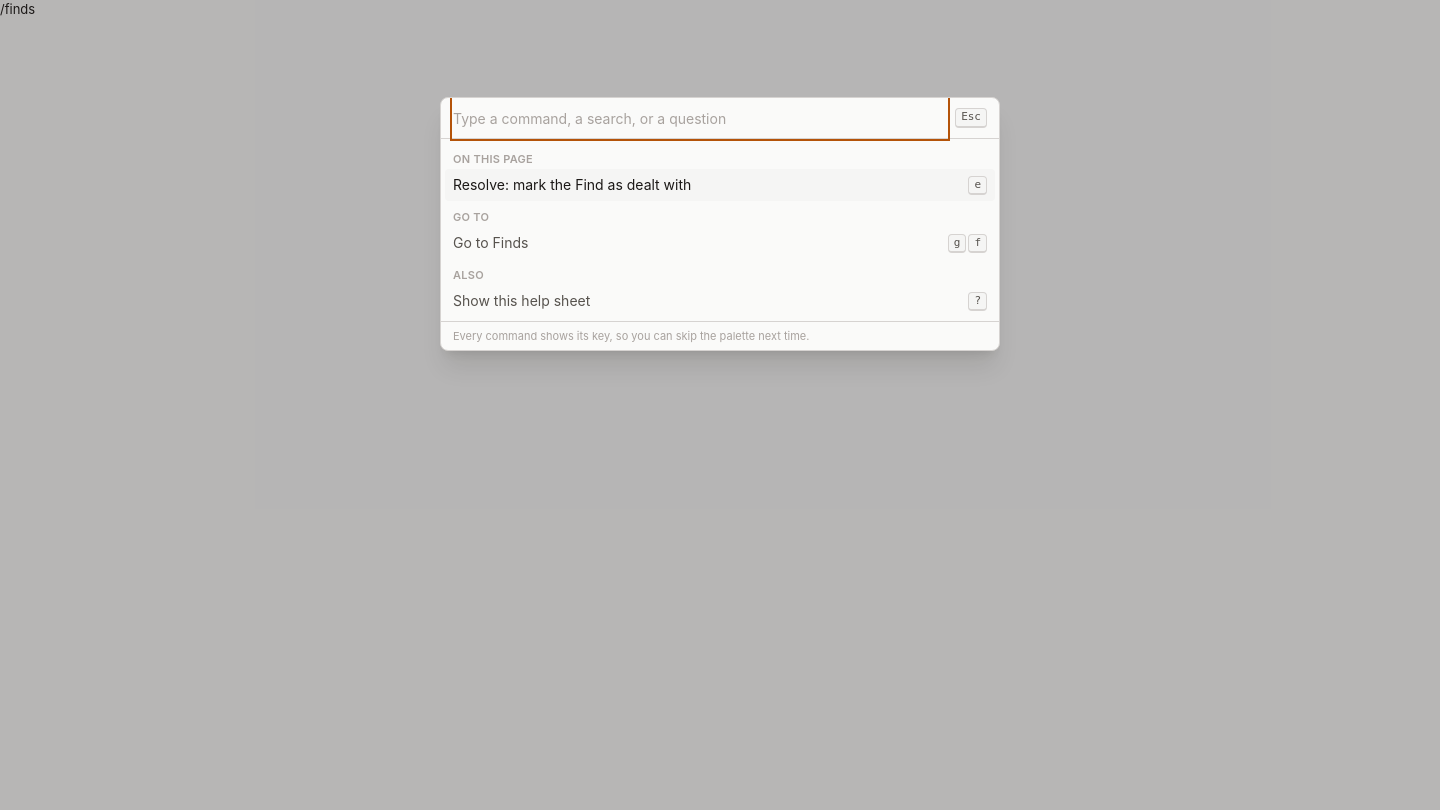
it: the command palette › the ask row prefills the Director and goes there without sending
In the dropdown labelled "command": {"x": 700, "y": 118} x1=453 y1=98 x2=947 y2=138, type "what is due"
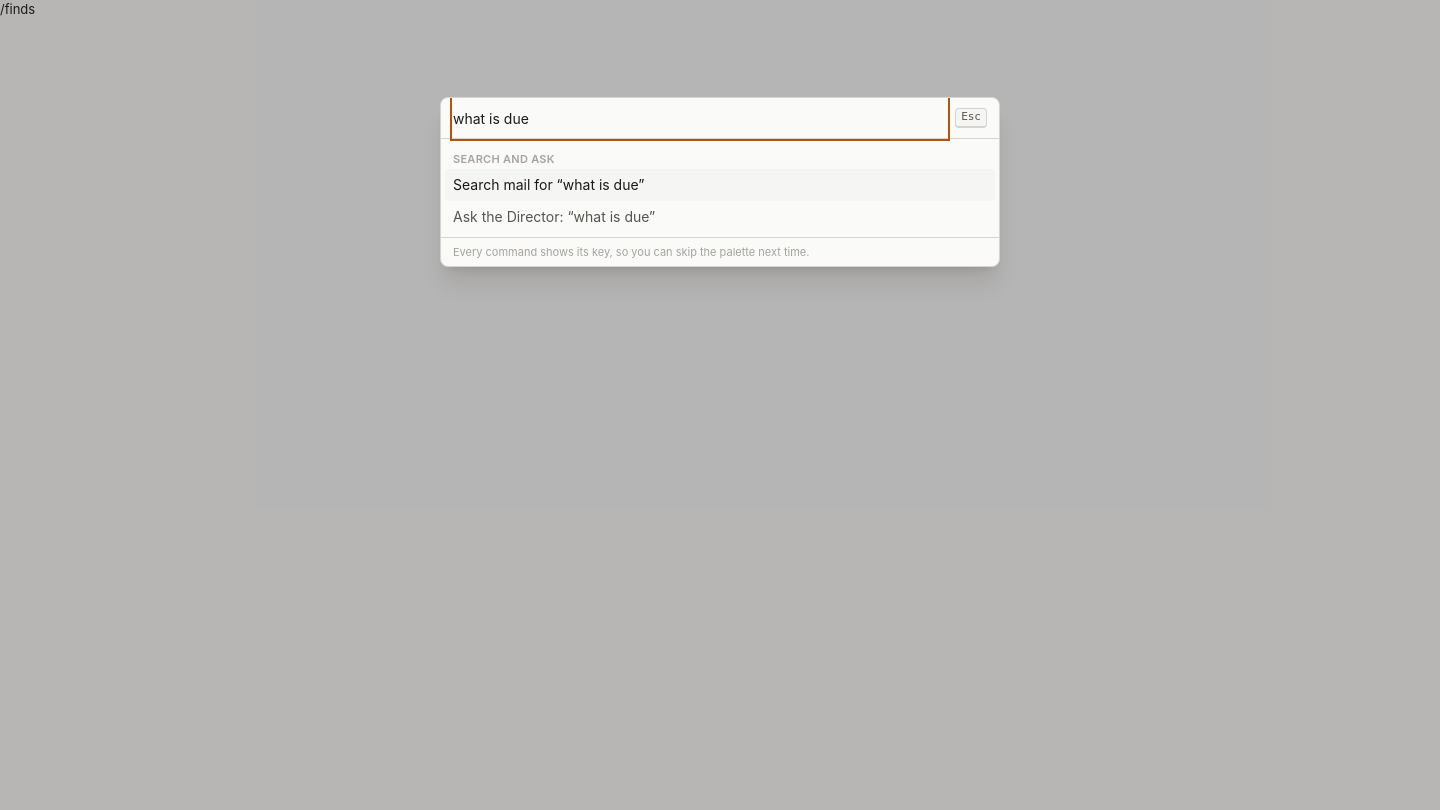
Press ArrowDown in the dropdown named "command", box x1=453 y1=98 x2=947 y2=138
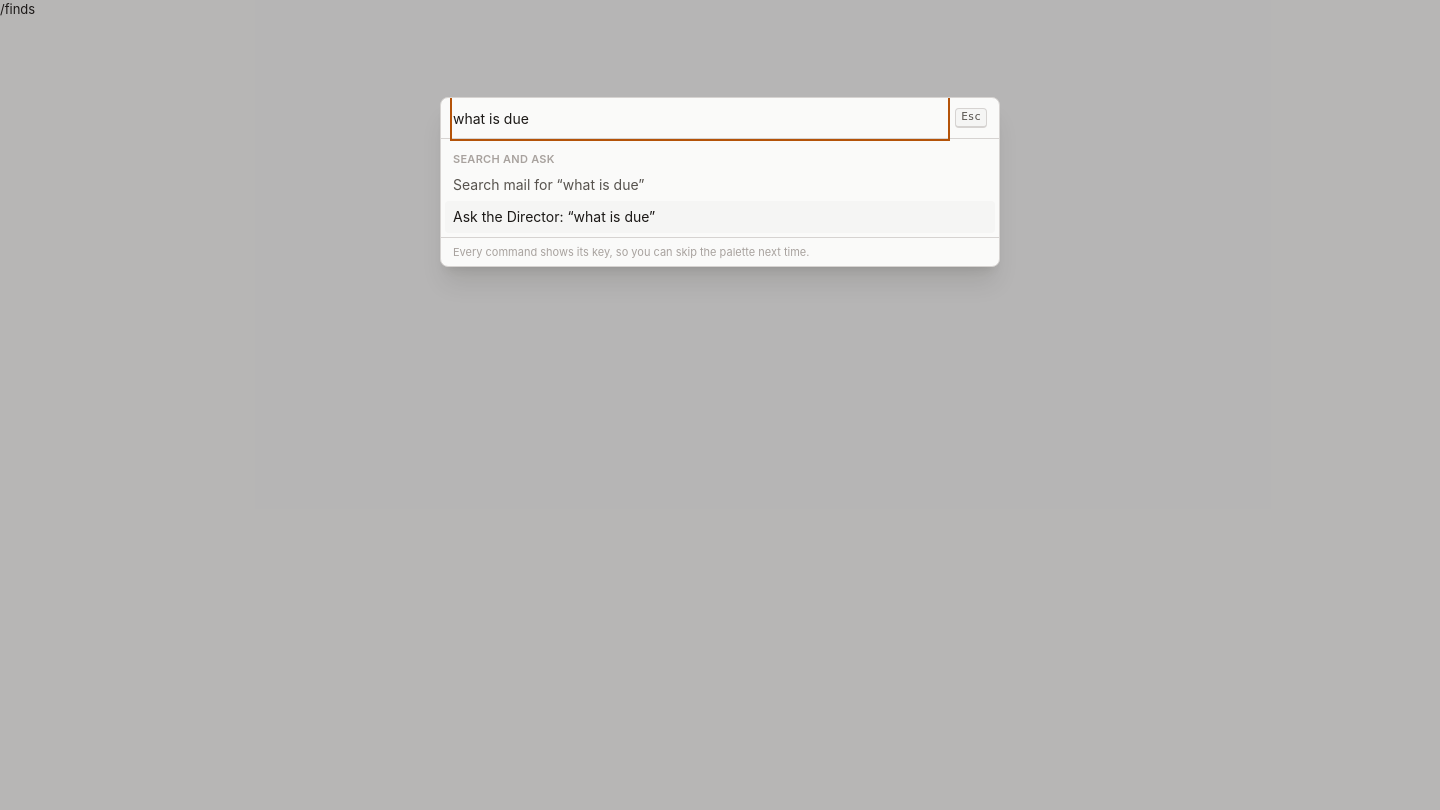
Check: the option "Ask the Director: “what is due”" is selected, box x1=445 y1=201 x2=995 y2=233
Press Enter in the dropdown named "command", box x1=453 y1=98 x2=947 y2=138
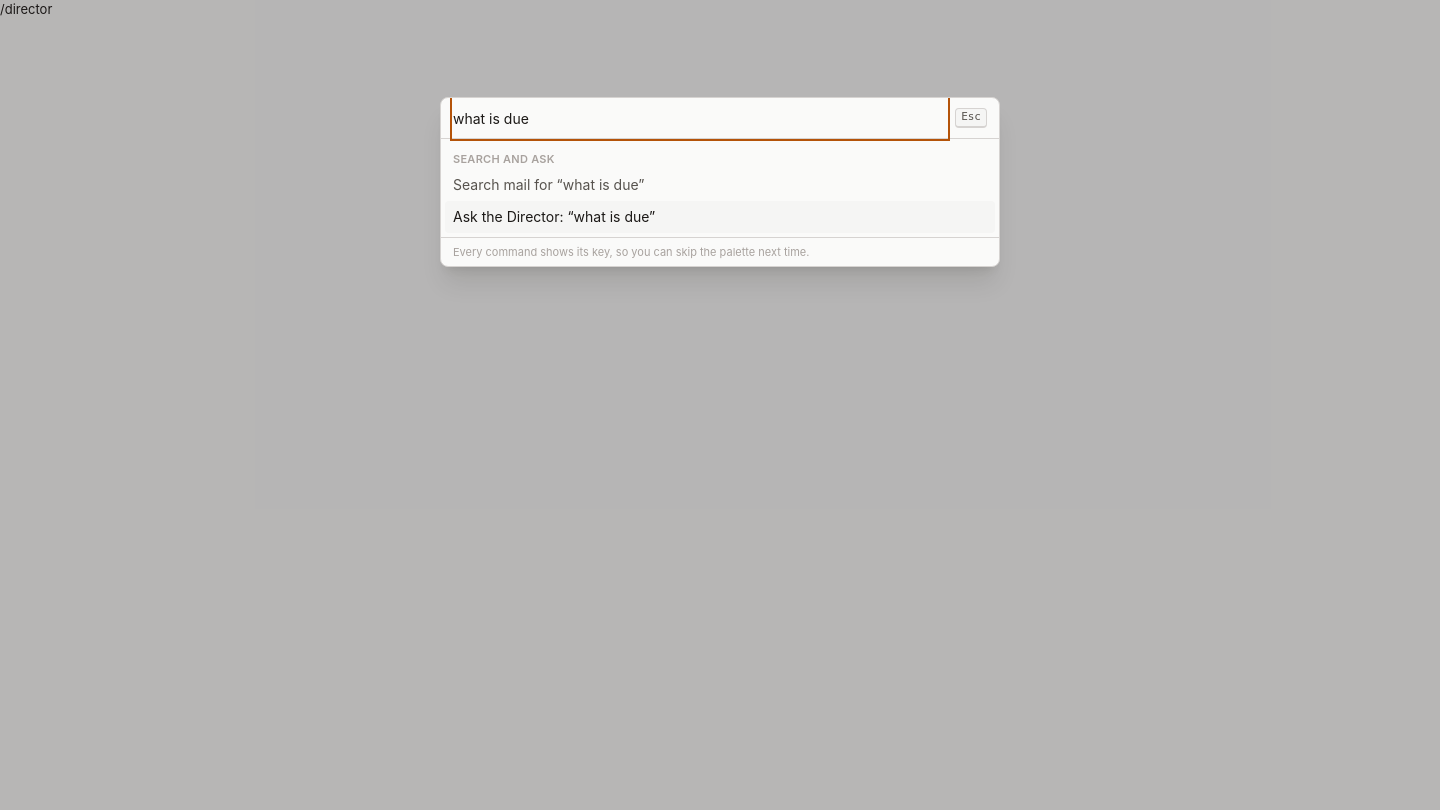
Check: the text with test id "where" reads "/director", box x1=0 y1=1 x2=52 y2=17
